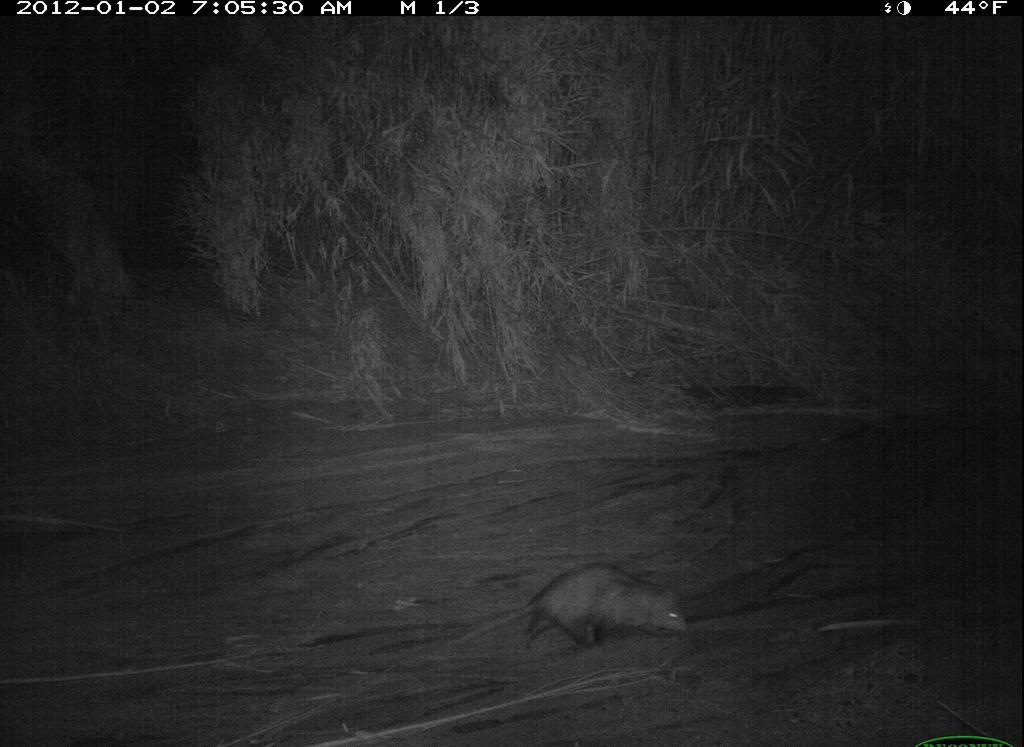opossum: (437, 553, 699, 667)
